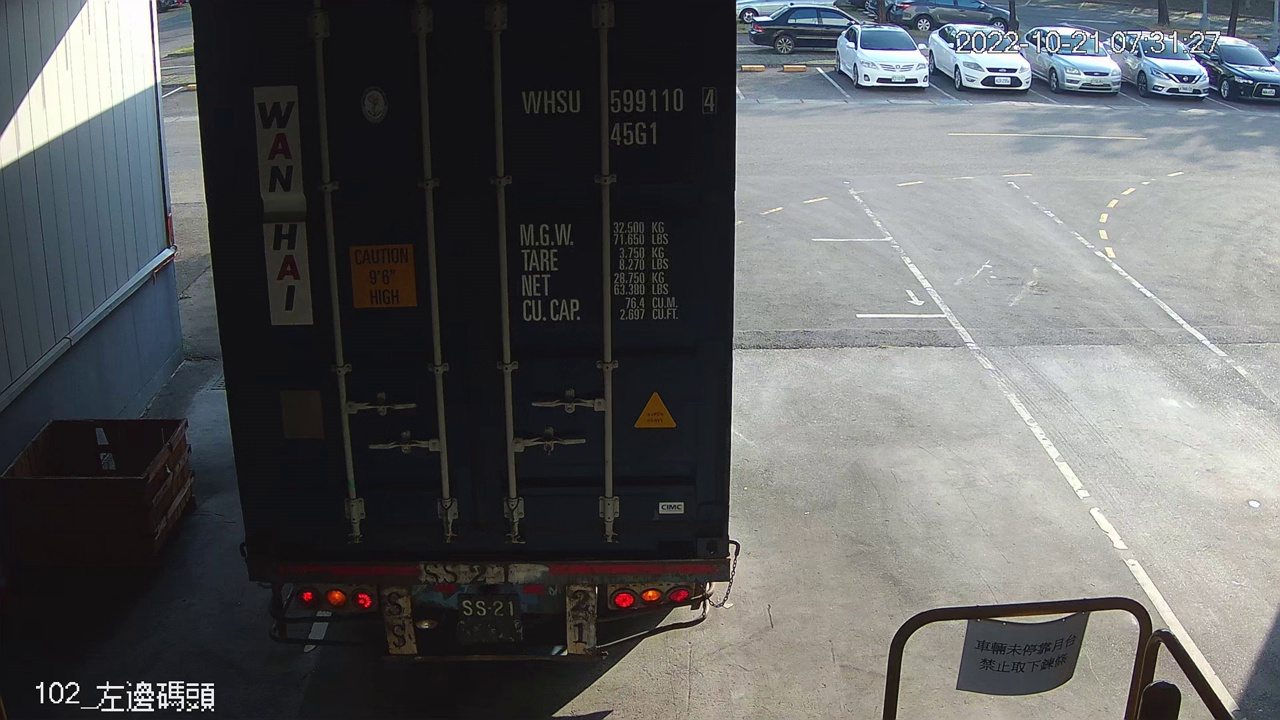container: (515, 73, 723, 154)
